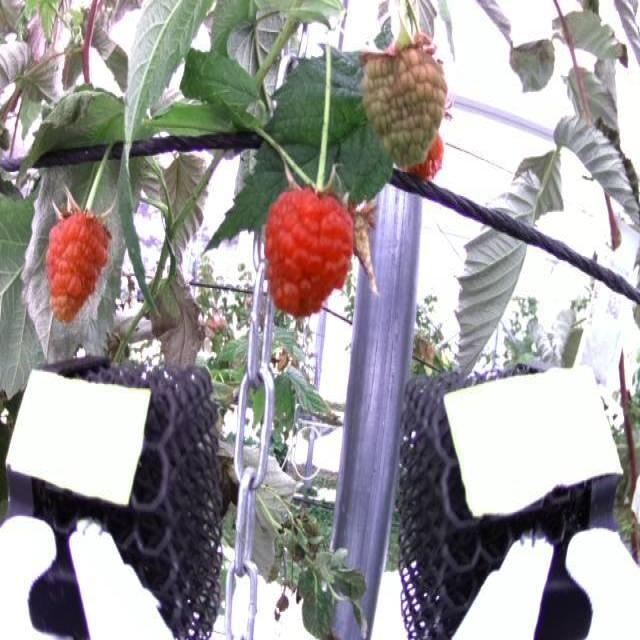Riped berries: (262, 184, 356, 319), (43, 197, 115, 320)
